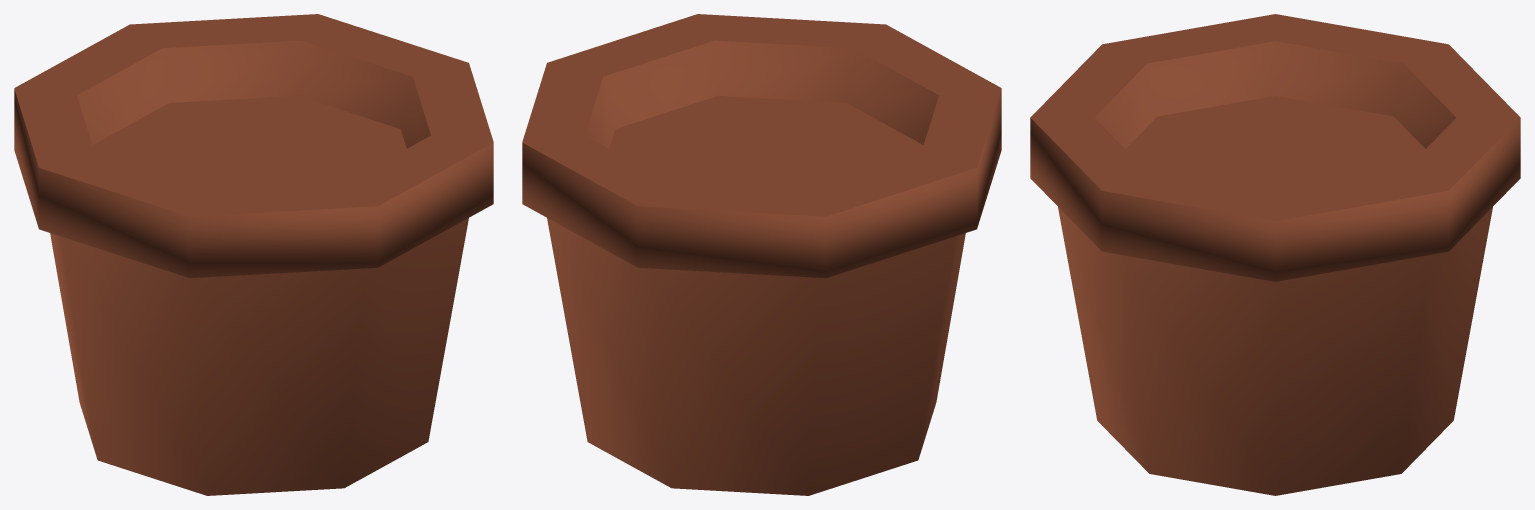
The model's file is Pot.fbx.
The picture shows the model from 3 angles, left to right: view 1: azimuth 30°, elevation 25°; view 2: azimuth 150°, elevation 25°; view 3: azimuth 270°, elevation 25°; orthographic projection.
Visible parts, largest first — view 1: Maceta; view 2: Maceta; view 3: Maceta.
Part boxes in pixels (bbox=[...]): Maceta: bbox=[14, 14, 493, 495]; Maceta: bbox=[522, 14, 1001, 495]; Maceta: bbox=[1030, 14, 1520, 495].
Bounding box in the file's own units: 220 × 150 × 220.
